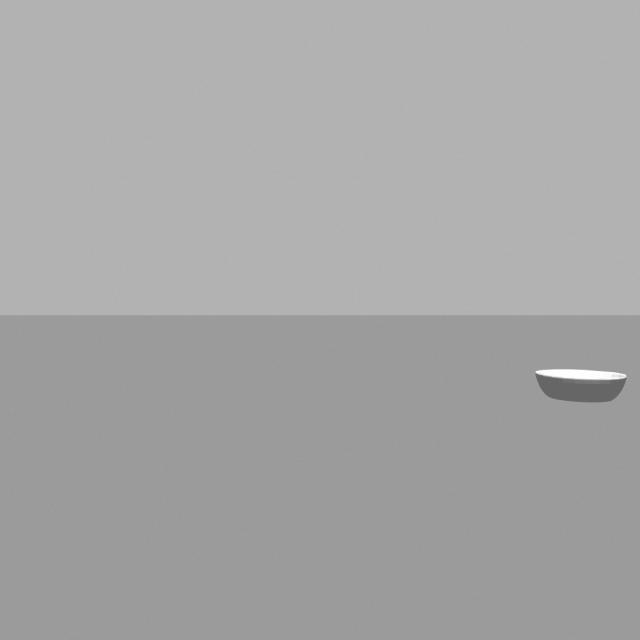bowl: (522, 354, 637, 428)
